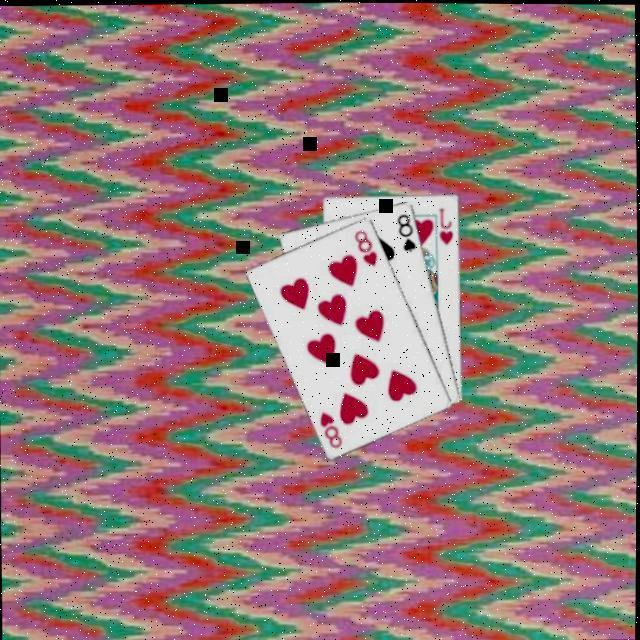8H: (351, 227, 380, 270), (317, 409, 346, 451)
8S: (395, 211, 421, 256)
JH: (436, 206, 457, 248)
